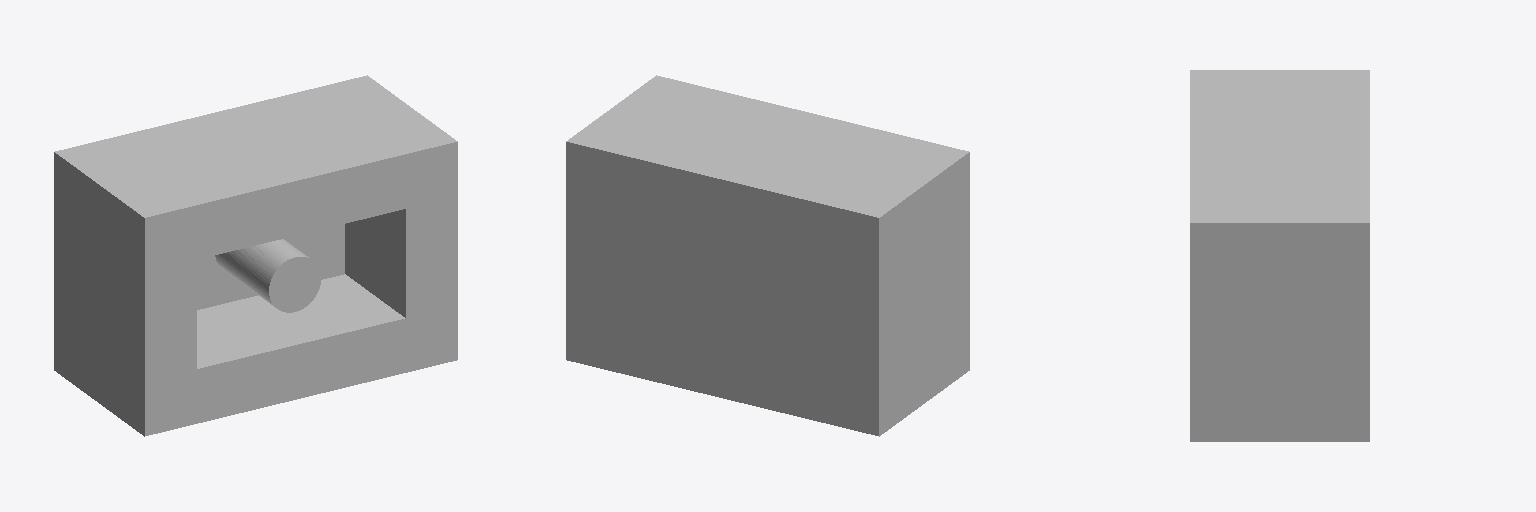
File: tank39.obj
3 views of the same model, side by side, from view 1: azimuth 30°, elevation 25°; view 2: azimuth 150°, elevation 25°; view 3: azimuth 270°, elevation 25° (orthographic).
Bounding box in the file's own units: 3 × 2 × 1.5.